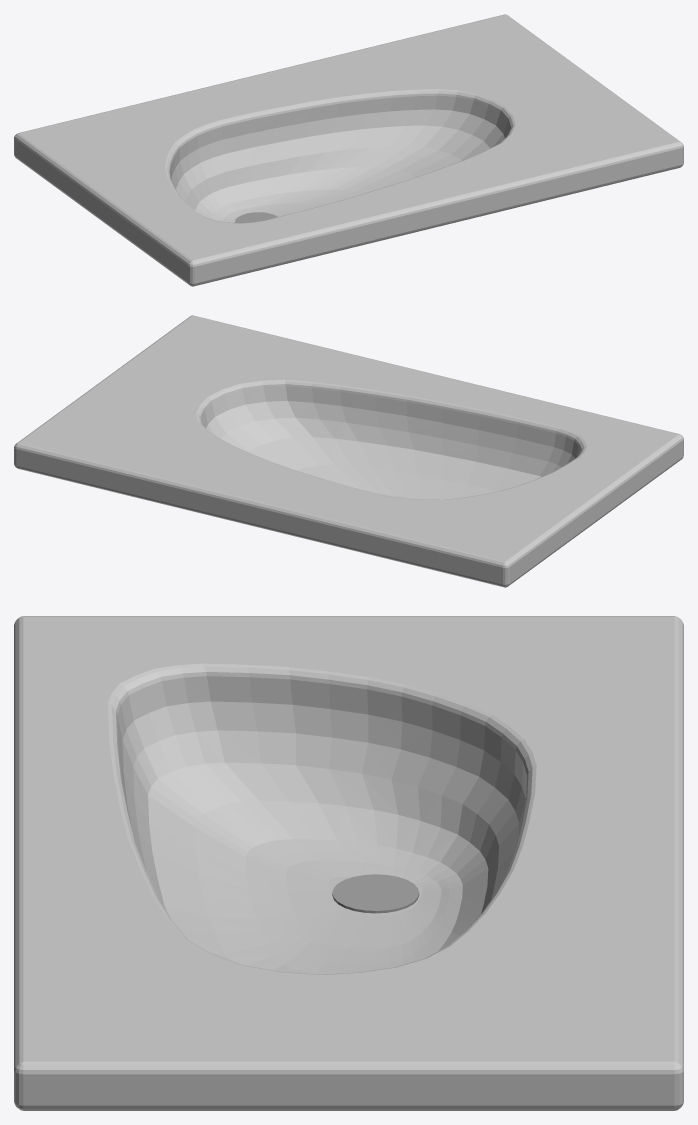
Rendered from AEC_29997.glb.
3 renders of one model, top to bottom at view 1: azimuth 30°, elevation 25°; view 2: azimuth 150°, elevation 25°; view 3: azimuth 270°, elevation 25°, orthographic. The views are drawn at different scales.
Parts seen in each view (by area): view 1: 0; view 2: 0; view 3: 0.
Part boxes in pixels (x1,y1,x2,y2): 0: (14,14,683,286); 0: (14,315,683,587); 0: (14,616,683,1110).
Bounding box in the file's own units: 0.8 × 0.11 × 0.5.
Materials: 1 (1 with a texture image).
